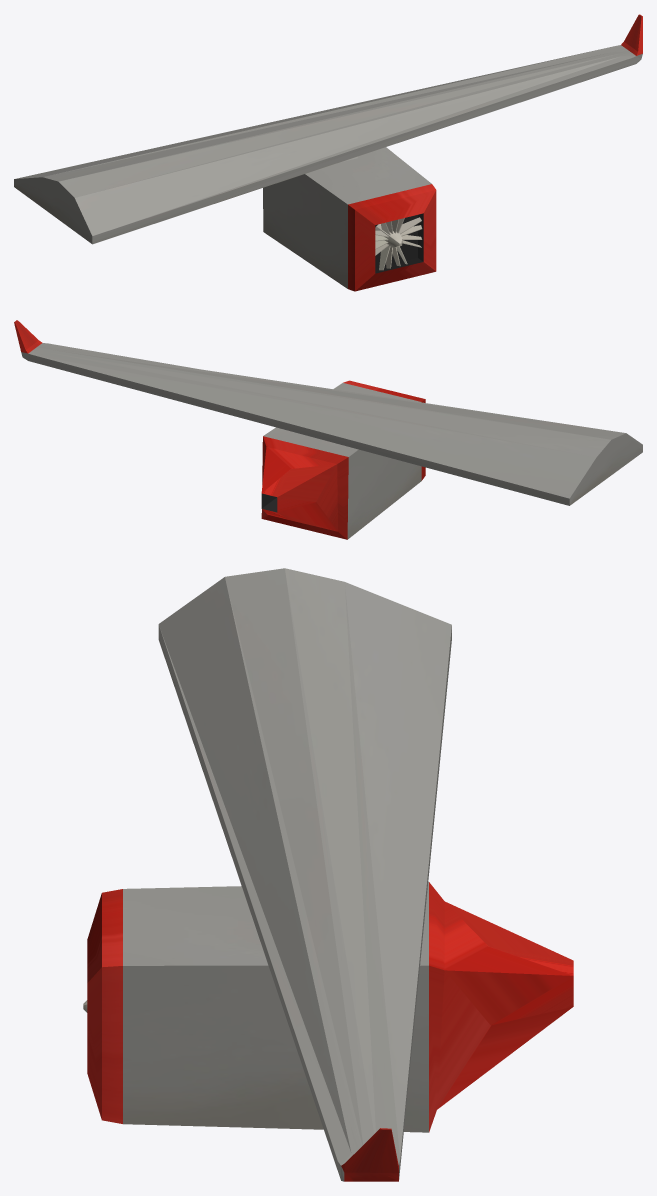
File: Airplane_wing.fbx
3 renders of one model, top to bottom at view 1: azimuth 30°, elevation 25°; view 2: azimuth 150°, elevation 25°; view 3: azimuth 270°, elevation 25°, orthographic. The views are drawn at different scales.
Visible parts, largest first — view 1: Wing, Engine; view 2: Wing, Engine; view 3: Wing, Engine.
Boxes of the visible parts, x1,y1,x2,y2 form: Wing: (14, 14, 642, 244); Engine: (263, 147, 436, 291); Wing: (14, 320, 642, 505); Engine: (261, 380, 425, 539); Wing: (158, 568, 451, 1181); Engine: (83, 881, 573, 1132).
Size of the model in its own units: 16.09 by 3.48 by 5.99.
